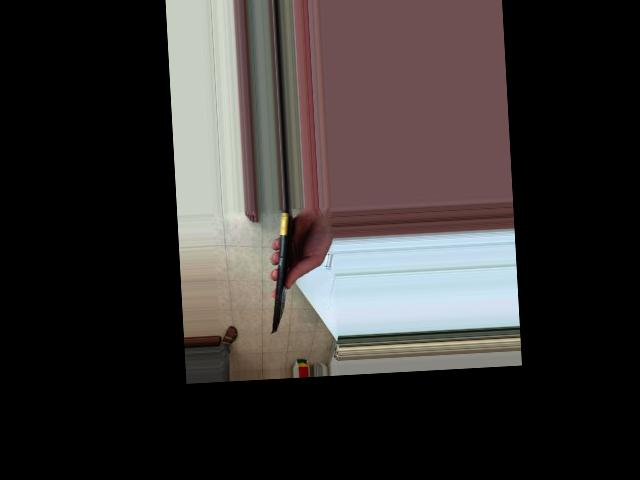chocolate: (262, 208, 305, 331)
